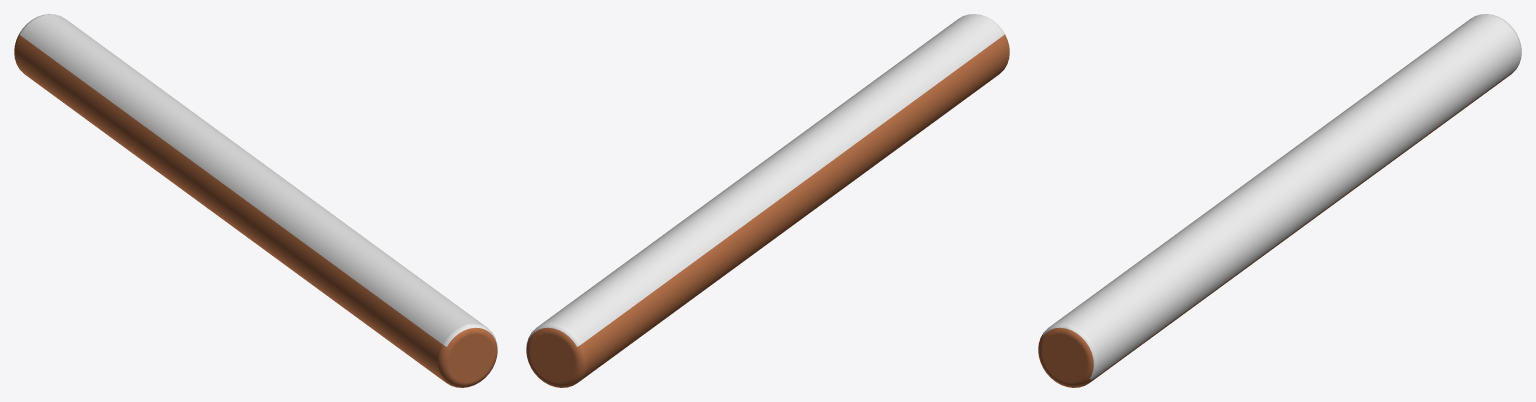
The model's file is moving-bar.glb.
3 views of the same model, side by side, from view 1: azimuth 30°, elevation 25°; view 2: azimuth 150°, elevation 25°; view 3: azimuth 330°, elevation 25° (orthographic).
Parts seen in each view (by area): view 1: moving-bar; view 2: moving-bar; view 3: moving-bar.
Part boxes in pixels (x1=…): moving-bar: x1=14, y1=14, x2=497, y2=387; moving-bar: x1=526, y1=14, x2=1009, y2=387; moving-bar: x1=1038, y1=14, x2=1521, y2=387.
Size of the model in its own units: 0.08 by 0.08 by 0.9969.
